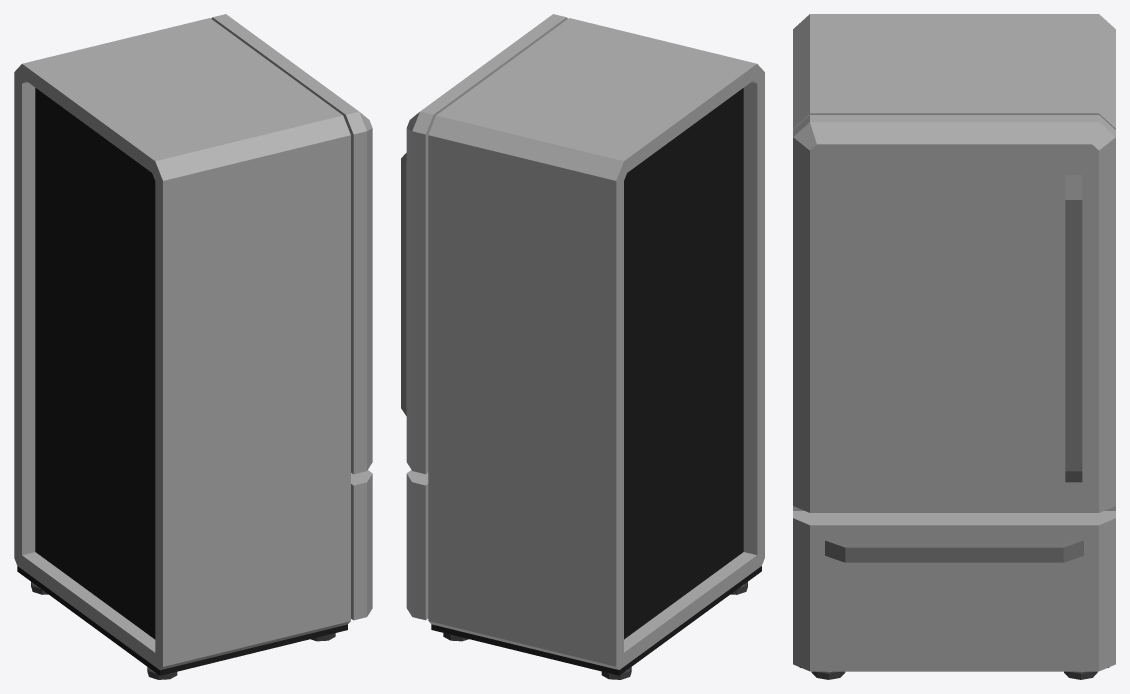
Rendered from SM_kitchenFridge_02.glb.
3 renders of one model, left to right at view 1: azimuth 30°, elevation 25°; view 2: azimuth 150°, elevation 25°; view 3: azimuth 270°, elevation 25°, orthographic. The views are drawn at different scales.
Visible parts, largest first — view 1: SM_kitchenFridge_02; view 2: SM_kitchenFridge_02; view 3: SM_kitchenFridge_02.
Part boxes in pixels (box(x1,y1,x2,y2)): SM_kitchenFridge_02: box(14, 14, 372, 679); SM_kitchenFridge_02: box(401, 14, 764, 679); SM_kitchenFridge_02: box(793, 14, 1115, 679).
Size of the model in its own units: 0.86 by 1.86 by 0.96.
1 material, 1 textured.
